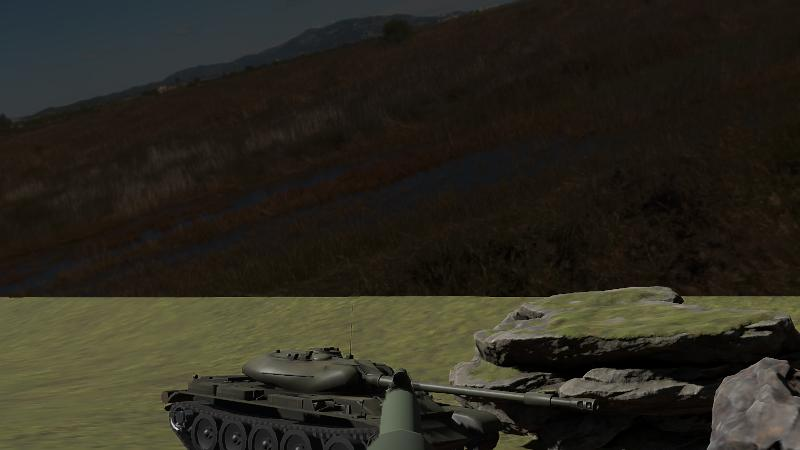Tank: (160, 345, 576, 450)
